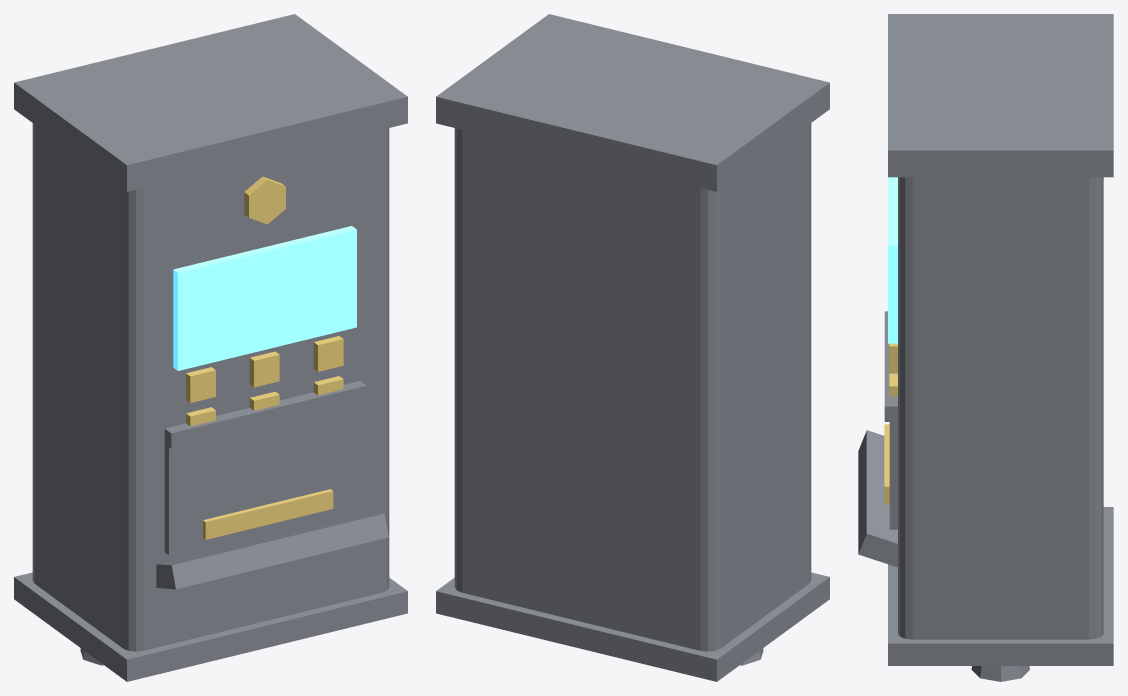
The model's file is pickups-and-collectibles-vending-hatch-9ed354d1__19974.glb.
3 views of the same model, side by side, from view 1: azimuth 30°, elevation 25°; view 2: azimuth 150°, elevation 25°; view 3: azimuth 270°, elevation 25° (orthographic).
Visible parts, largest first — view 1: body/iron, flap/iron, body/gem, body/gold, flap/gold; view 2: body/iron; view 3: body/iron, flap/iron, body/gem, body/gold, flap/gold.
Part boxes in pixels (bbox=[...]): body/iron: bbox=[14, 14, 407, 681]; flap/iron: bbox=[164, 381, 366, 554]; body/gem: bbox=[173, 226, 356, 370]; body/gold: bbox=[186, 176, 343, 426]; flap/gold: bbox=[203, 489, 333, 539]; body/iron: bbox=[436, 14, 829, 681]; body/iron: bbox=[858, 14, 1113, 681]; flap/iron: bbox=[884, 311, 897, 529]; body/gem: bbox=[888, 177, 897, 343]; body/gold: bbox=[889, 343, 897, 396]; flap/gold: bbox=[884, 424, 889, 504].
Size of the model in its own units: 0.66 by 1.21 by 0.5206.
